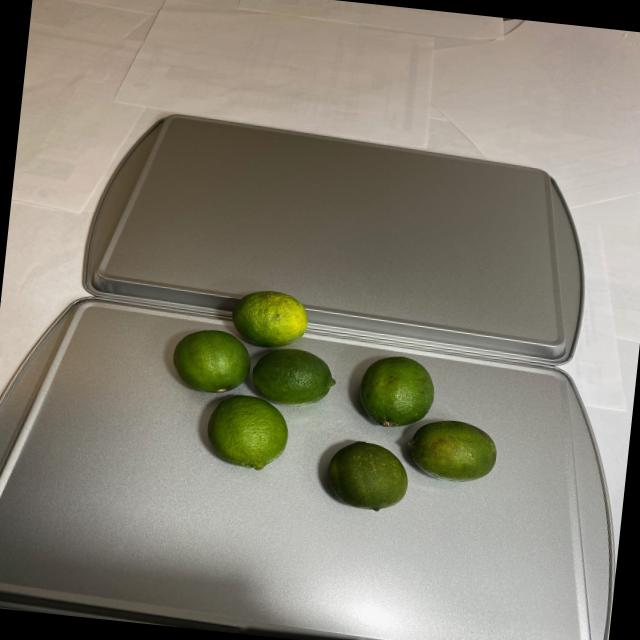lemon: (162, 280, 514, 520)
